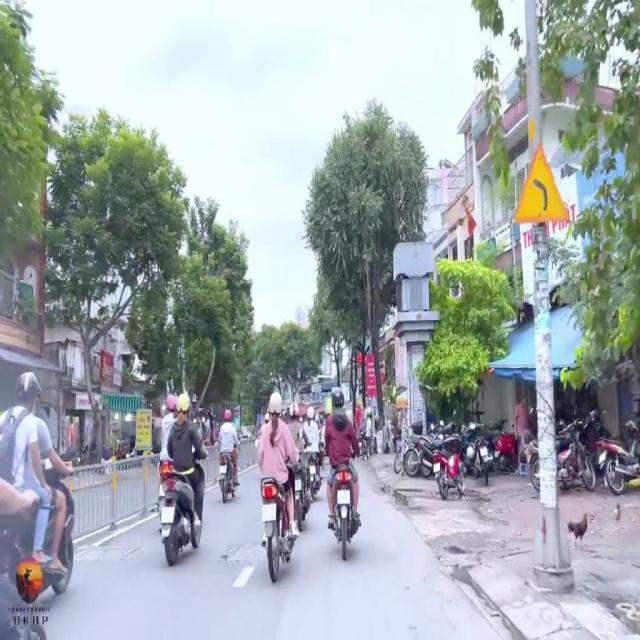201-cho-ngoat-nguy-hiem: (514, 145, 572, 226)
